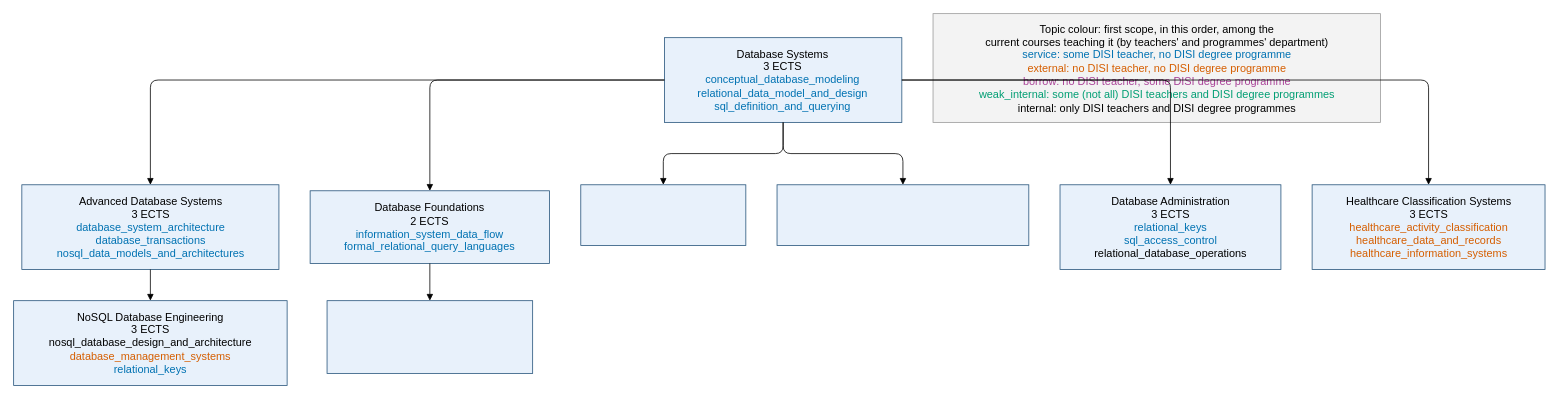
Image size: 1559x399. Some labels were removed from this diagram. Here are the shapes that lost their labels. From the top down, the centre of each, then its label:
point (663, 214): Classification Models 1 ECTS classification_models
point (902, 214): Modular Arithmetic for Cryptography 1 ECTS modular_arithmetic_for_cryptography
point (429, 336): Database Access and NoSQL 2 ECTS database_application_access nosql_querying
